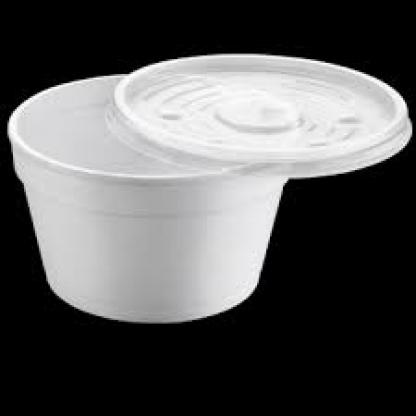paper: (6, 70, 284, 322)
table: (100, 50, 410, 176)
